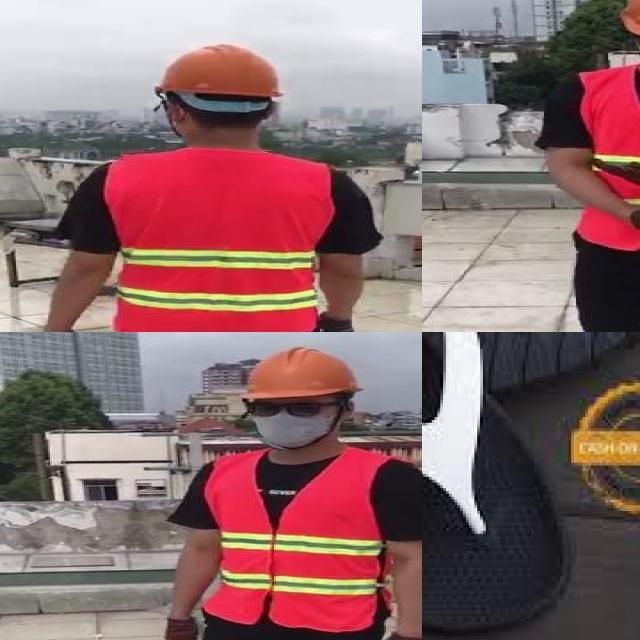Sandals: (422, 332, 640, 640)
face_mask: (245, 398, 332, 446)
glasses: (242, 398, 334, 421)
hand_glove: (604, 160, 640, 197), (163, 619, 201, 640)
head_helmet: (152, 40, 284, 100), (238, 345, 364, 401)
person: (10, 35, 410, 332), (139, 340, 422, 640), (551, 0, 640, 332)
vest: (106, 152, 327, 332), (201, 450, 390, 629), (574, 66, 640, 257)
